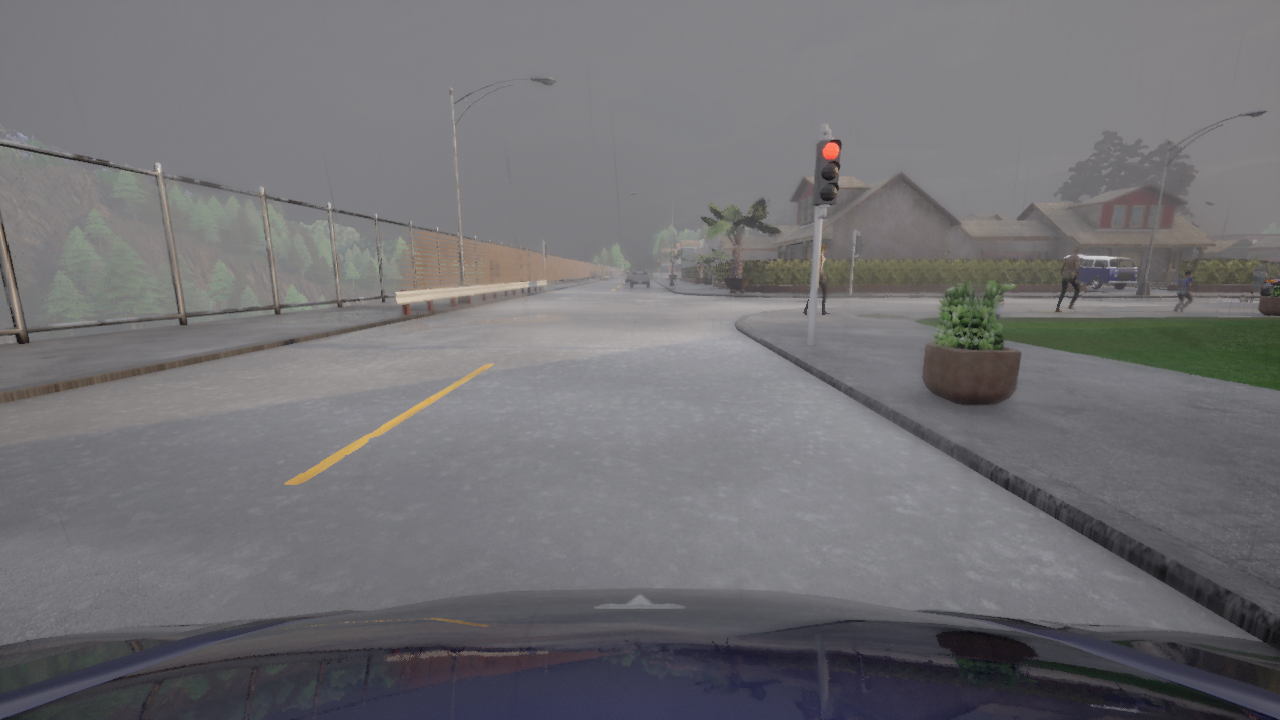cyclist: (0, 588, 1279, 719), (1062, 255, 1137, 288), (1260, 277, 1279, 296), (630, 270, 649, 286), (626, 271, 633, 283), (631, 273, 648, 274)
pedestrian: (802, 244, 830, 316), (1054, 246, 1082, 313), (1173, 270, 1193, 312), (987, 278, 1005, 322), (1251, 260, 1270, 292)
